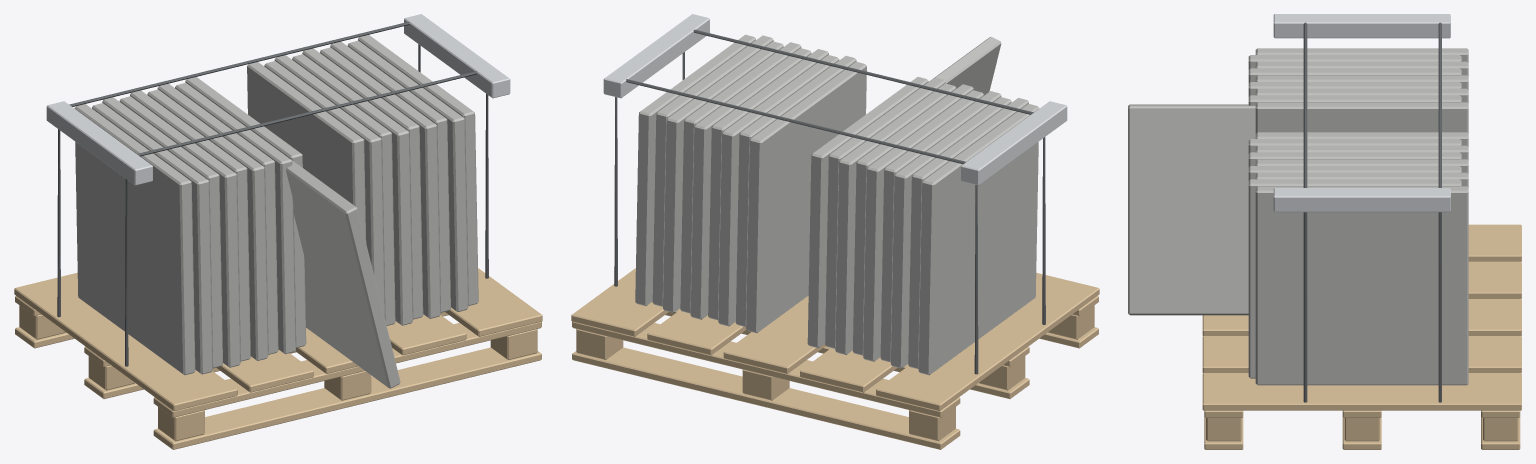
The model's file is paving-slab-pack.glb.
The picture shows the model from 3 angles, left to right: view 1: azimuth 30°, elevation 25°; view 2: azimuth 150°, elevation 25°; view 3: azimuth 270°, elevation 25°; orthographic projection.
Visible parts, largest first — view 1: paving-slab-pack; view 2: paving-slab-pack; view 3: paving-slab-pack.
Part boxes in pixels (left/top/right/bottom): paving-slab-pack: left=14, top=14, right=542, bottom=449; paving-slab-pack: left=571, top=14, right=1099, bottom=449; paving-slab-pack: left=1128, top=14, right=1521, bottom=449.
Bounding box in the file's own units: 1.22 × 0.794 × 1.11.
